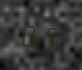five: (40, 20, 60, 51)
zero: (19, 18, 39, 49)
